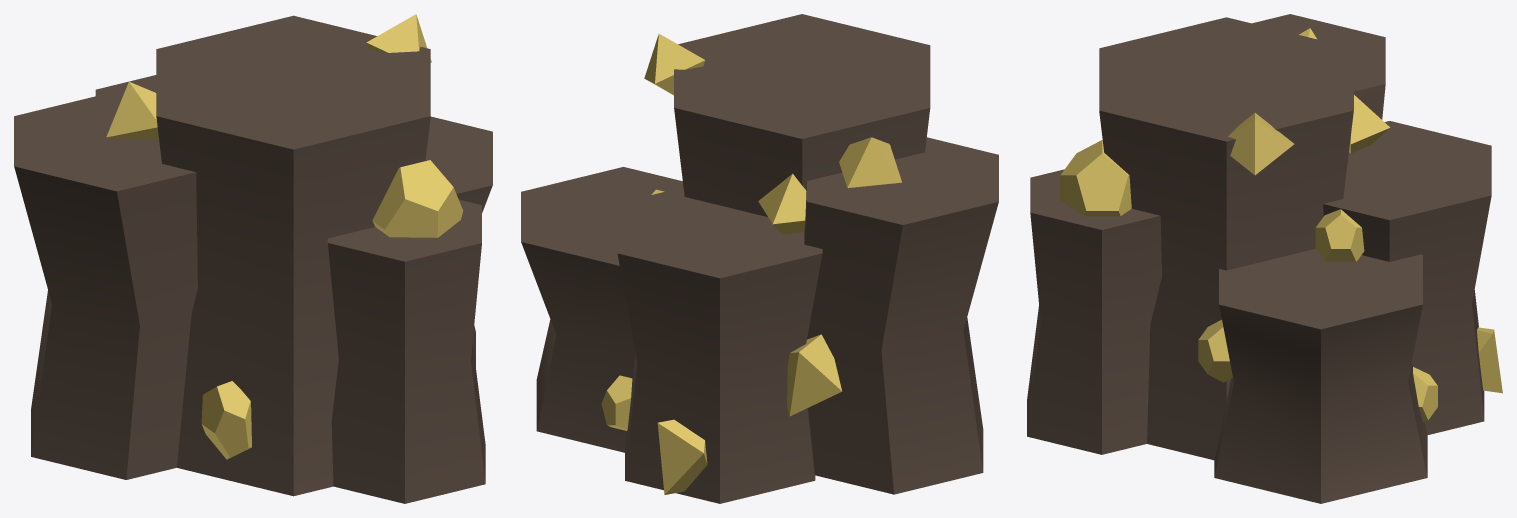
The model's file is Ore02.fbx.
3 renders of one model, left to right at view 1: azimuth 30°, elevation 25°; view 2: azimuth 150°, elevation 25°; view 3: azimuth 270°, elevation 25°, orthographic. The views are drawn at different scales.
Visible parts, largest first — view 1: pPlatonic3; view 2: pPlatonic3; view 3: pPlatonic3.
Boxes of the visible parts, x1,y1,x2,y2 form: pPlatonic3: (14, 14, 492, 503); pPlatonic3: (521, 14, 998, 503); pPlatonic3: (1027, 14, 1502, 503).
Size of the model in its own units: 2.11 by 1.5 by 1.89.
